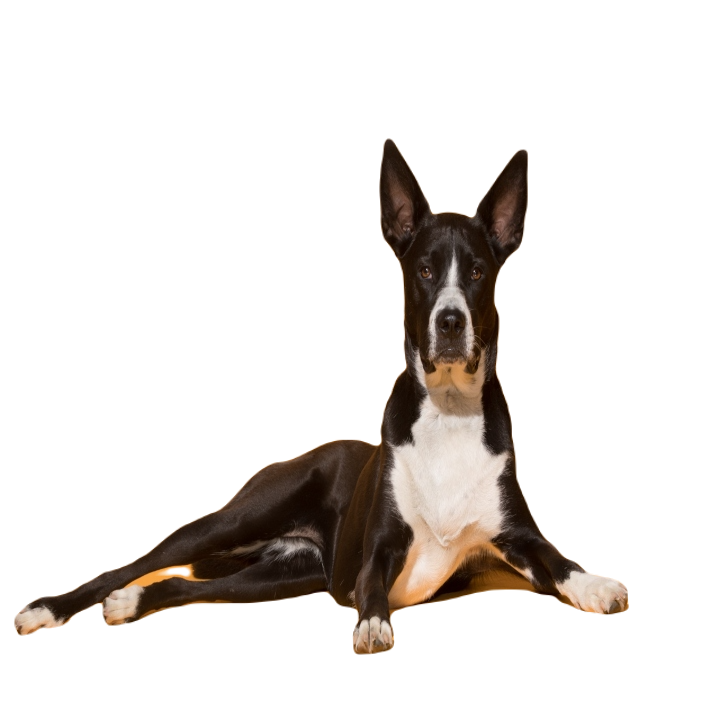Dog: (9, 134, 628, 655)
